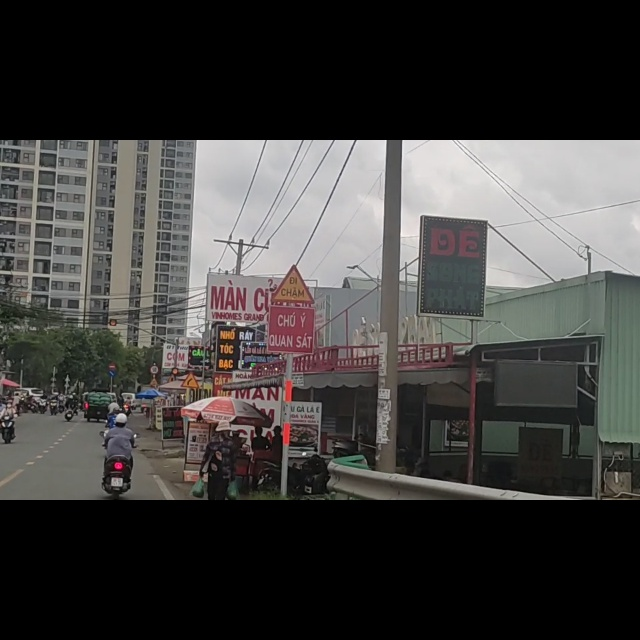bien_cam: (269, 219, 317, 294), (180, 410, 201, 442)
